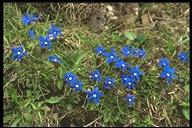flower: (10, 9, 188, 107)
grass: (7, 72, 59, 124)
